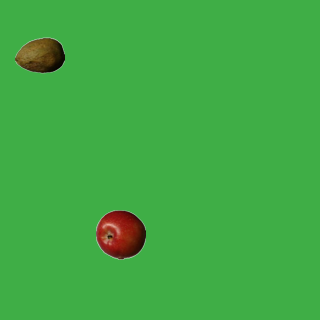Apple Braeburn: (95, 209, 145, 259)
Papaya: (14, 30, 64, 80)
